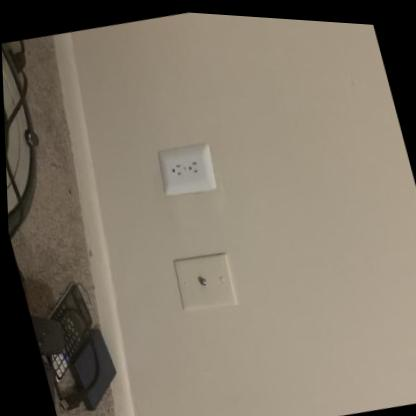OUTLET: (154, 137, 221, 200)
